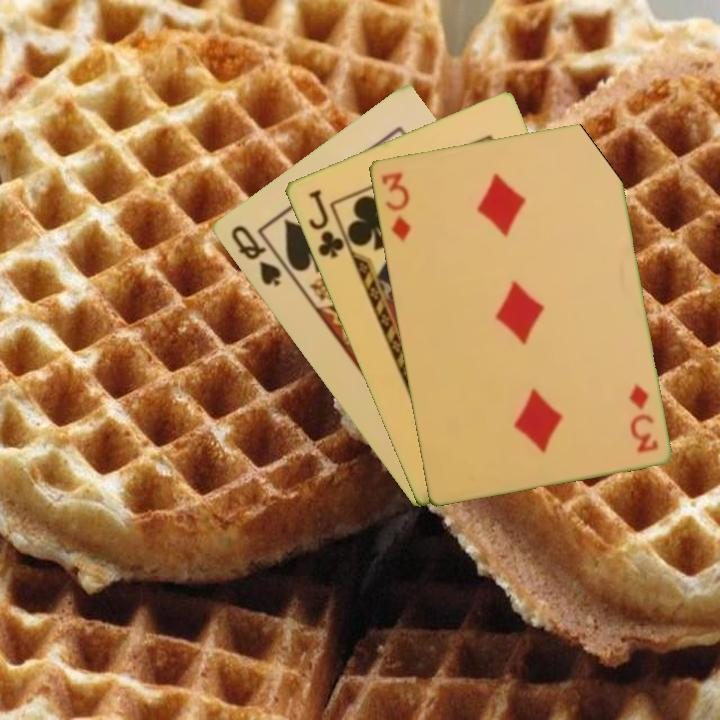3d: (377, 168, 414, 244), (624, 380, 661, 456)
Jc: (304, 185, 347, 261)
Qs: (227, 221, 284, 290)
